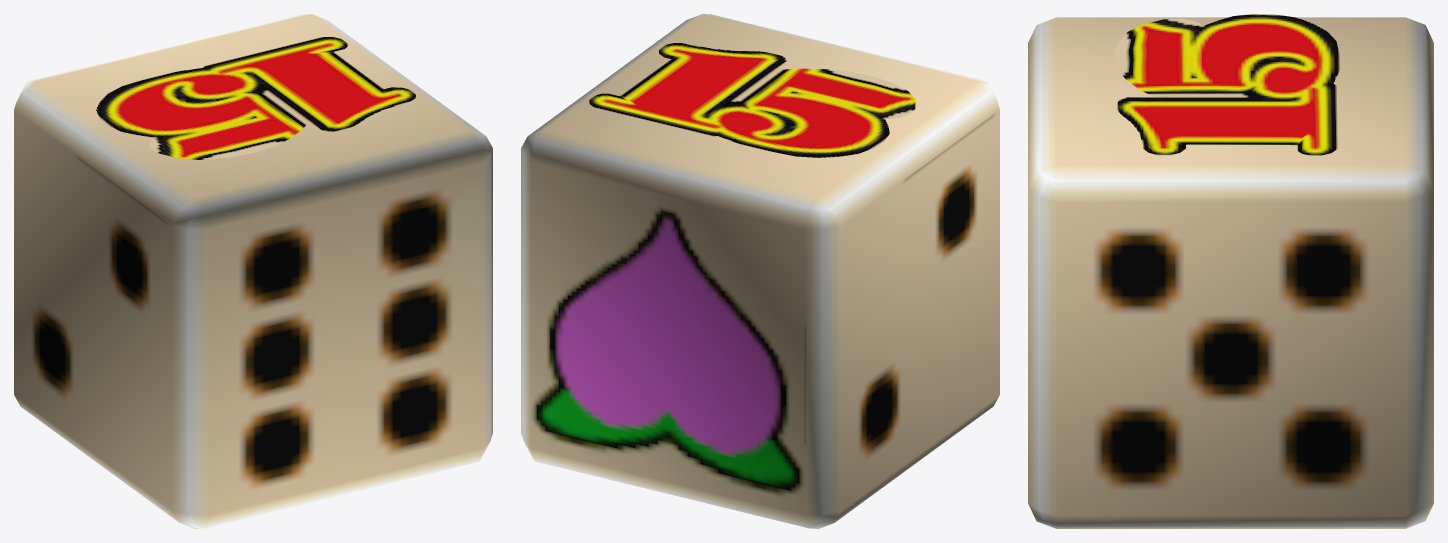
File: sm_01.ico.obj
3 views of the same model, side by side, from view 1: azimuth 30°, elevation 25°; view 2: azimuth 150°, elevation 25°; view 3: azimuth 270°, elevation 25° (orthographic). The views are drawn at different scales.
Bounding box in the file's own units: 2.5 × 2.51 × 2.5.
